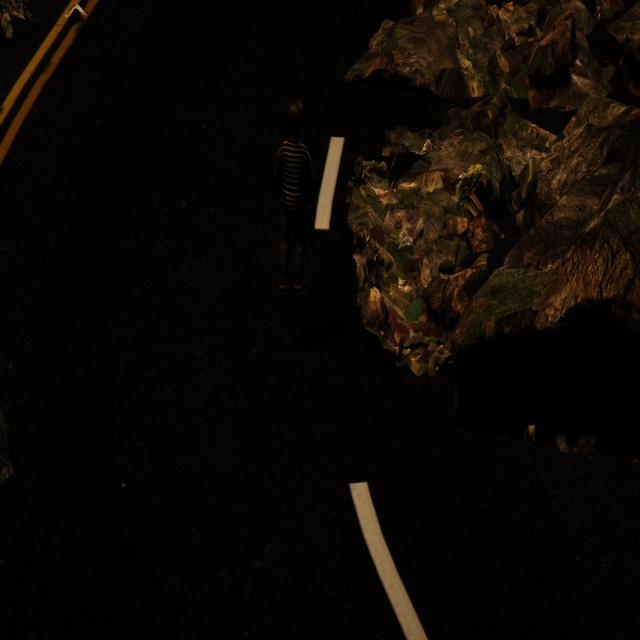Human: (270, 86, 324, 312)
